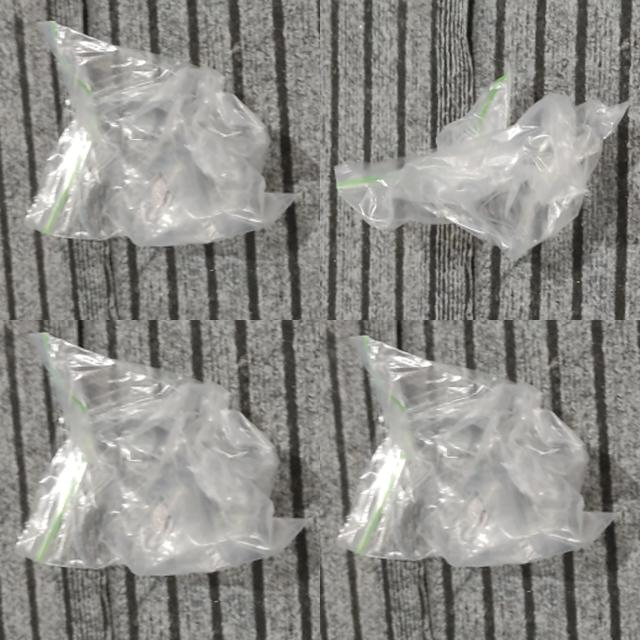Single-layer Plastic: (16, 332, 305, 575), (338, 336, 614, 566), (25, 21, 295, 246), (335, 74, 629, 260)
